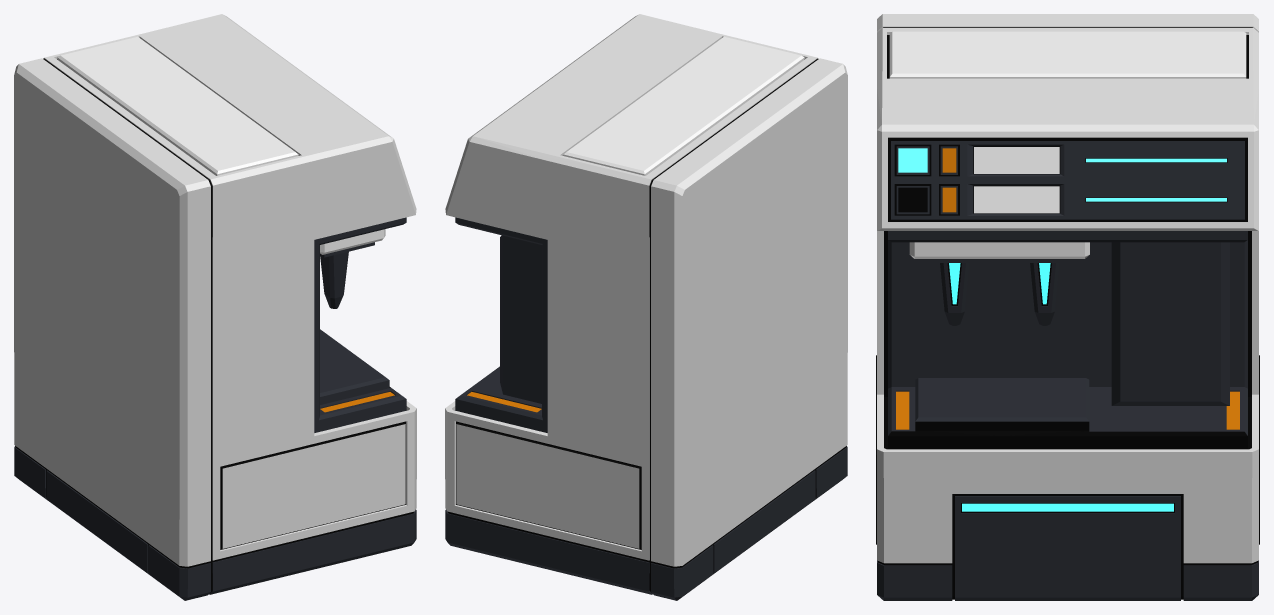
The model's file is coffee_machine.glb.
3 views of the same model, side by side, from view 1: azimuth 30°, elevation 25°; view 2: azimuth 150°, elevation 25°; view 3: azimuth 270°, elevation 25° (orthographic). The views are drawn at different scales.
Parts seen in each view (by area): view 1: SM_Coffee_Machine; view 2: SM_Coffee_Machine; view 3: SM_Coffee_Machine.
Boxes of the visible parts, x1,y1,x2,y2 form: SM_Coffee_Machine: (14,14,416,600); SM_Coffee_Machine: (445,14,847,600); SM_Coffee_Machine: (876,14,1259,600).
Size of the model in its own units: 0.4 by 0.6735 by 0.5023.
